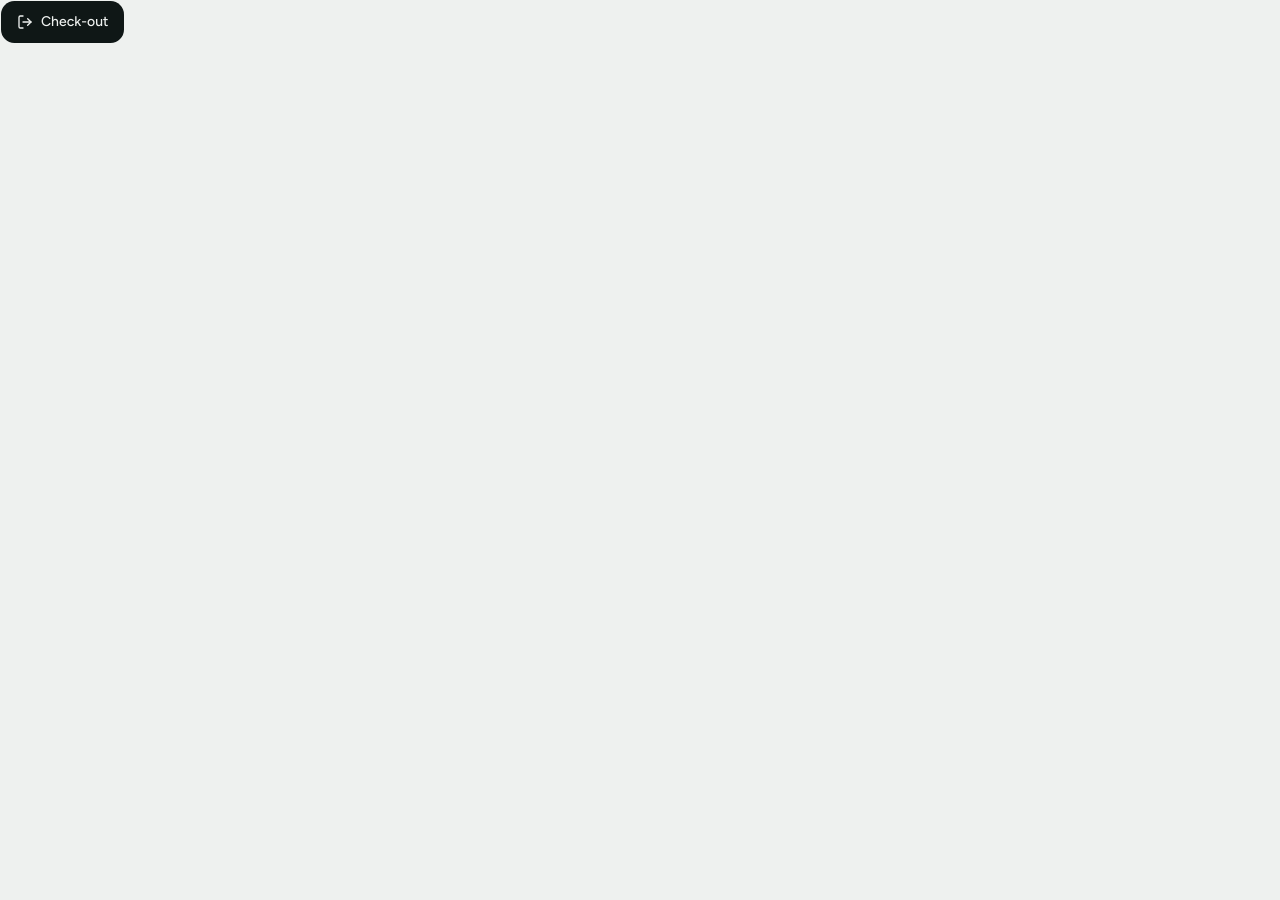
Test case: confirmação do check-out › diária em aberto continua avisando
This screenshot has width=1280, height=900.
Click the button "Check-out" at (63, 22), box x1=0 y1=0 x2=125 y2=44
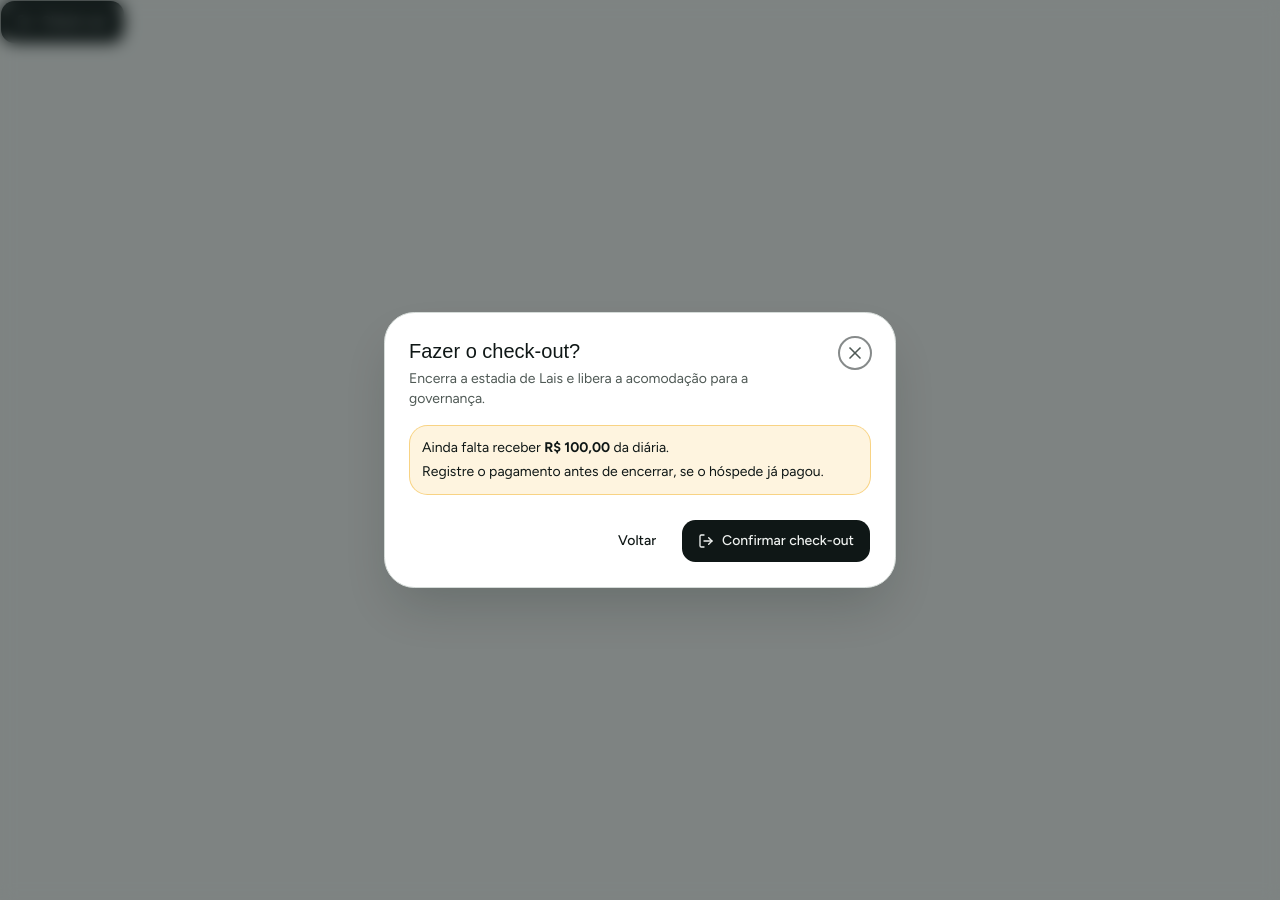
Check: the text "Ainda falta receber R$ 100,00 da diária." is shown, box x1=422 y1=439 x2=669 y2=456
